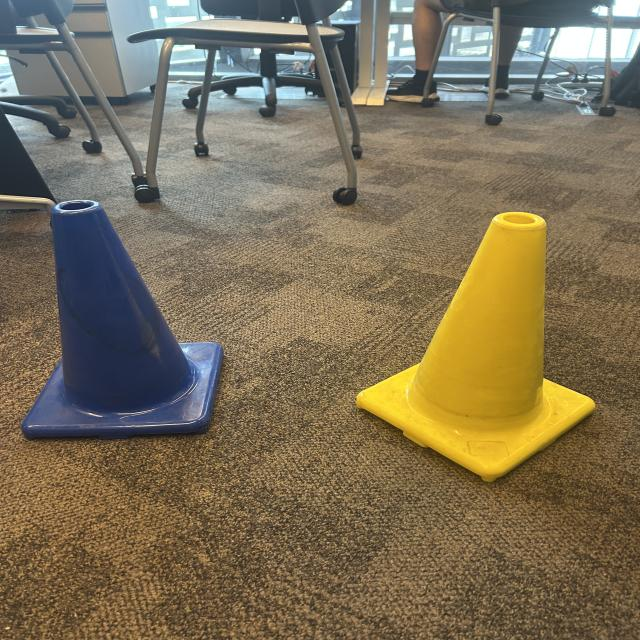blue_cone: (25, 200, 221, 434)
yellow_cone: (354, 212, 594, 479)
